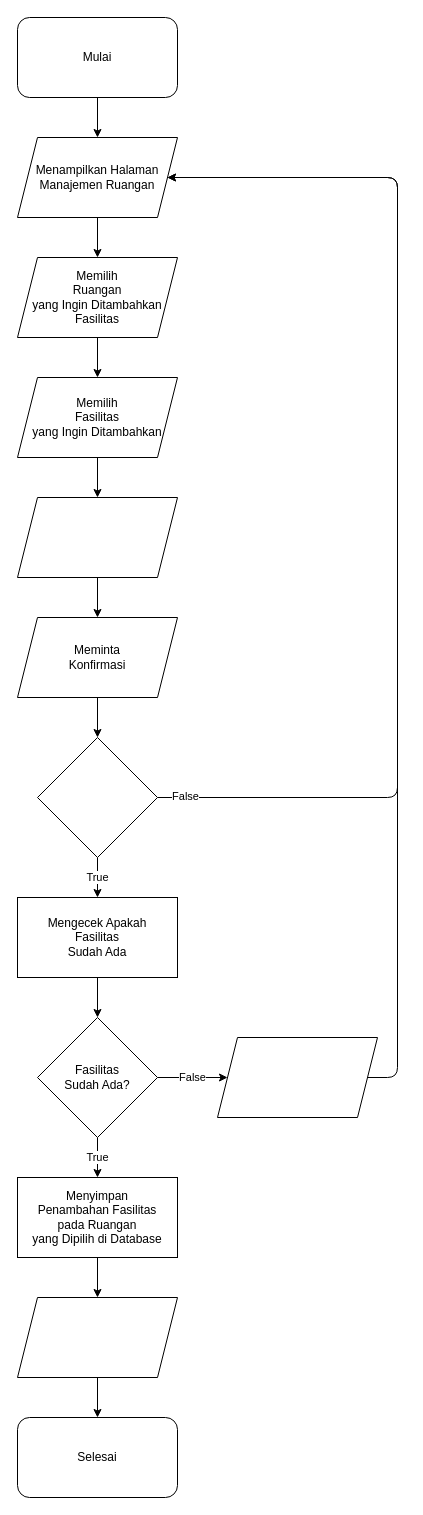
Some shapes in this 423 by 1515 pixel diagram are drawn without their labels. Here are the shapes that lost their labels. From the top down, the centre of each, then its label:
At (97,537): "Menekan Tombol Tambah".
At (97,797): "Konfirmasi Iya?".
At (297,1077): "Menampilkan Pesan Fasilitas Sudah Ada".
At (97,1337): "Menampilkan Pesan Fasilitas pada Ruangan Berhasil Ditambah".
